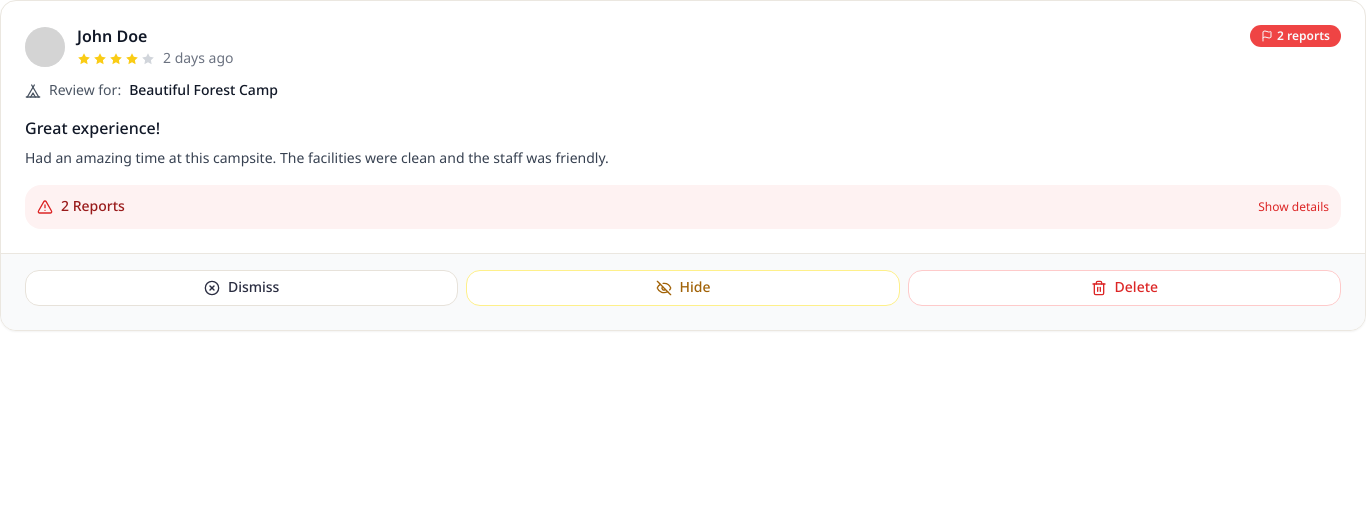
Test: ReportedReviewCard › Report Display Tests › toggles report details visibility
Expected: the text "Alice Smith" is not shown
Step 1. Click the text "Show details" → (1294, 207), box [1258,199,1329,215]
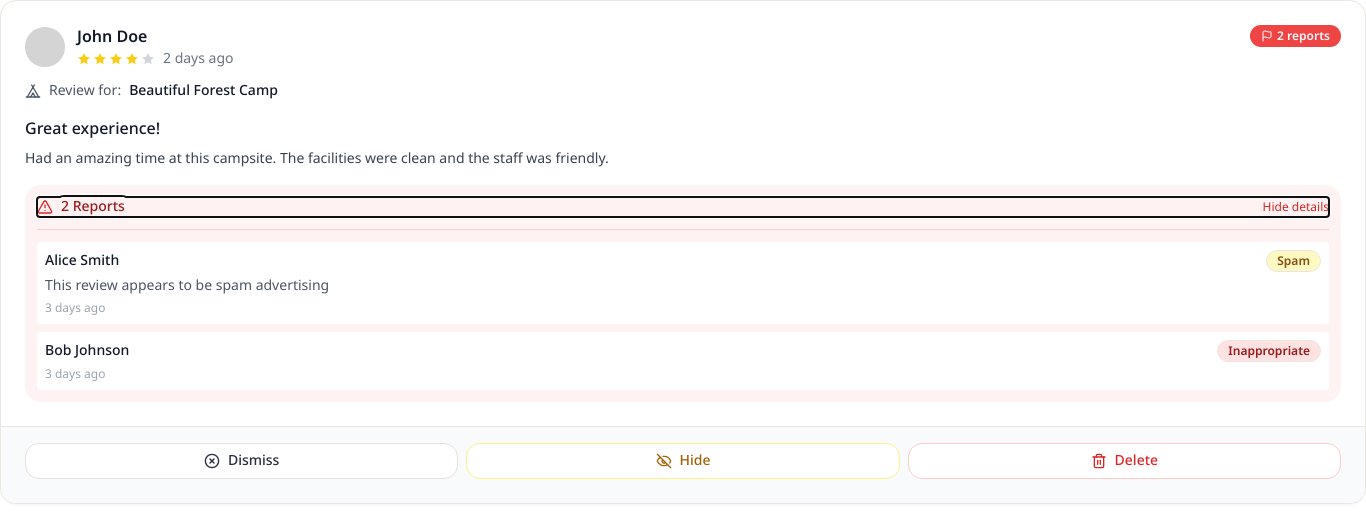
Expected: the text "Alice Smith" is shown, [45,251,119,271]
Step 2. Click the text "Show details" → (1296, 207), box [1263,199,1329,215]
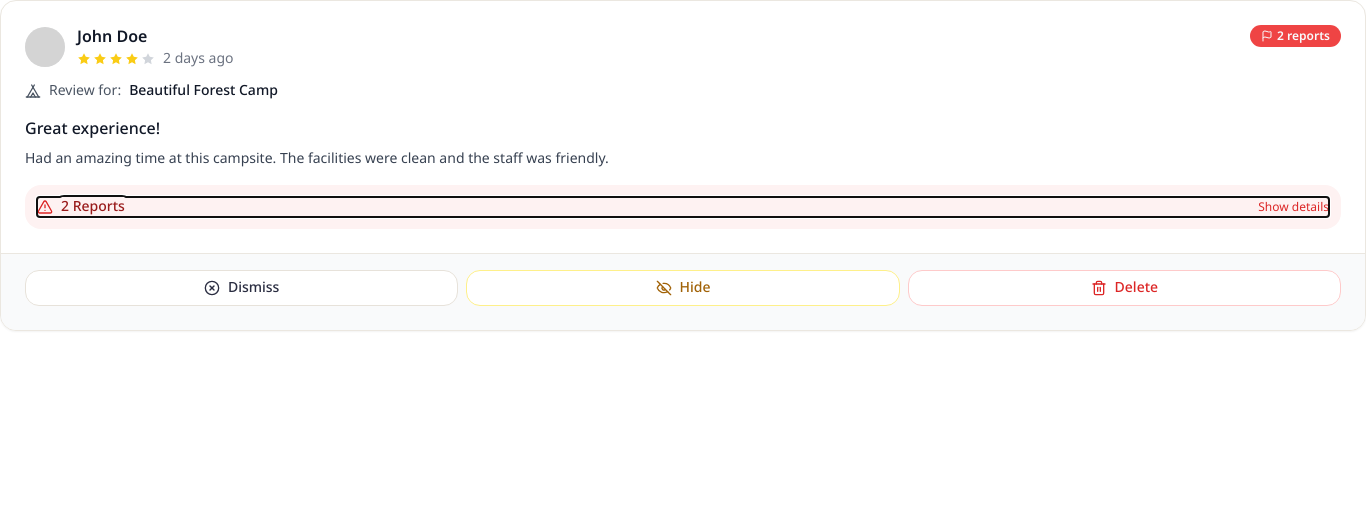
Expected: the text "Alice Smith" is gone
